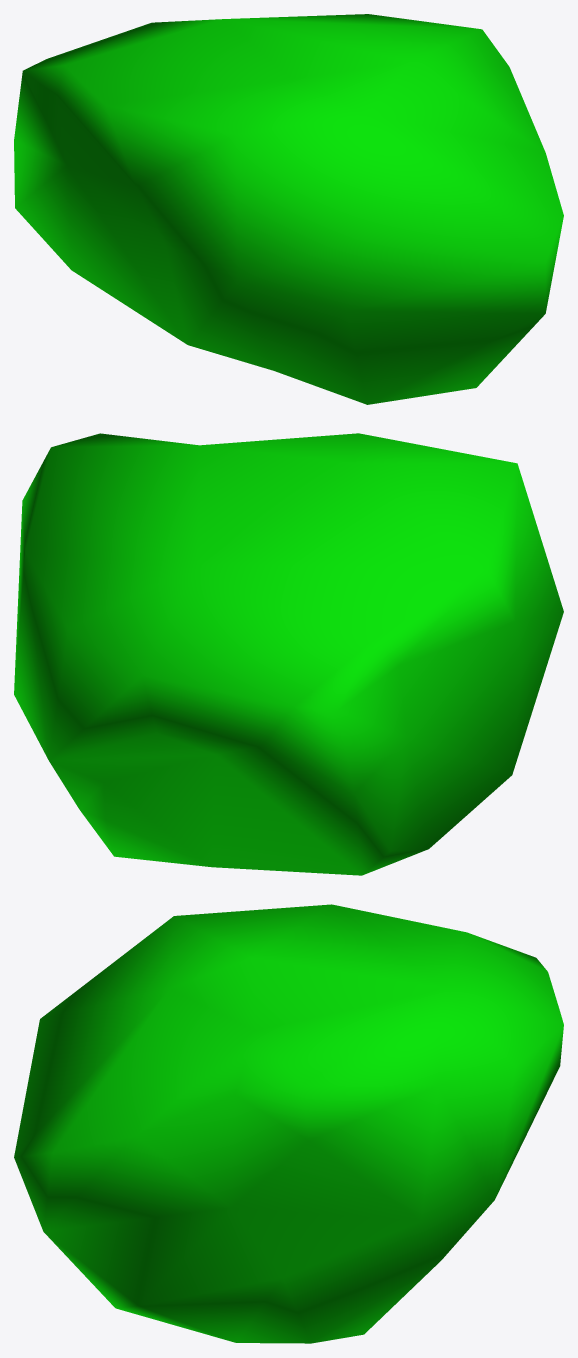
The picture shows the model from 3 angles, top to bottom: view 1: azimuth 30°, elevation 25°; view 2: azimuth 150°, elevation 25°; view 3: azimuth 270°, elevation 25°; orthographic projection. The views are drawn at different scales.
Parts seen in each view (by area): view 1: G:\FFXIV-MapTools\exports\f1f1\bg\ffxiv\fst_f1\fld\f1f1\bgpa; view 2: G:\FFXIV-MapTools\exports\f1f1\bg\ffxiv\fst_f1\fld\f1f1\bgpa; view 3: G:\FFXIV-MapTools\exports\f1f1\bg\ffxiv\fst_f1\fld\f1f1\bgpa.
Boxes of the visible parts, <box> form: G:\FFXIV-MapTools\exports\f1f1\bg\ffxiv\fst_f1\fld\f1f1\bgpa: <box>14,14,563,404</box>; G:\FFXIV-MapTools\exports\f1f1\bg\ffxiv\fst_f1\fld\f1f1\bgpa: <box>14,433,563,875</box>; G:\FFXIV-MapTools\exports\f1f1\bg\ffxiv\fst_f1\fld\f1f1\bgpa: <box>14,904,563,1343</box>.
Bounding box in the file's own units: 1.1 × 0.8381 × 1.33.
